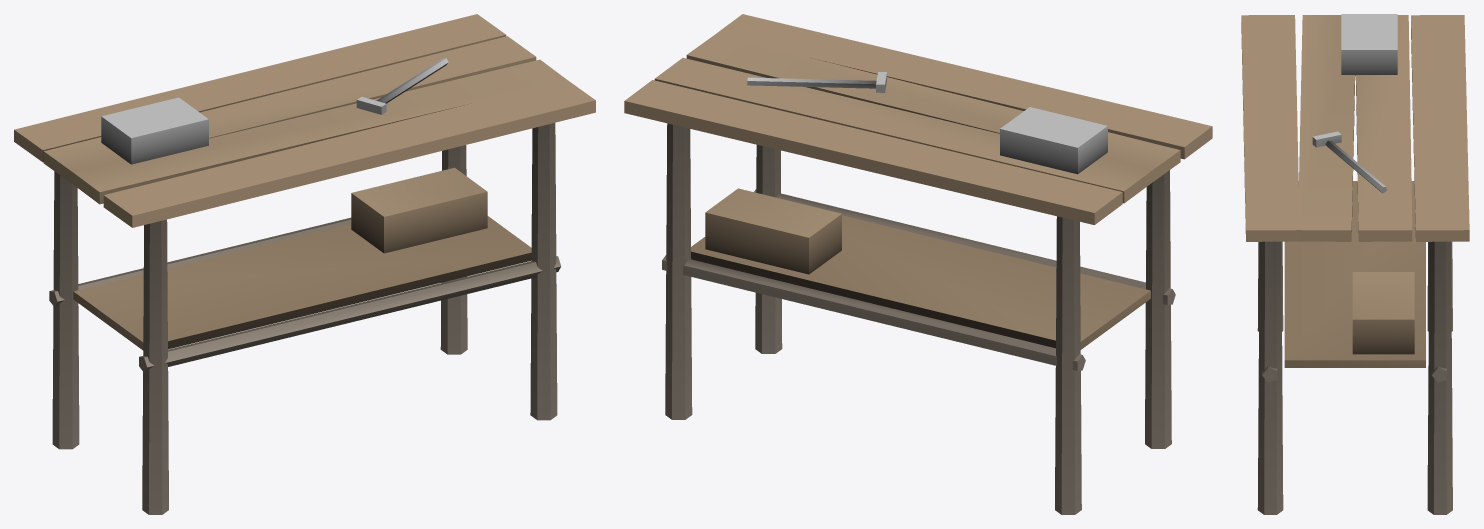
Rendered from banco.glb.
3 renders of one model, left to right at view 1: azimuth 30°, elevation 25°; view 2: azimuth 150°, elevation 25°; view 3: azimuth 270°, elevation 25°, orthographic. The views are drawn at different scales.
Visible parts, largest first — view 1: banco; view 2: banco; view 3: banco.
Boxes of the visible parts, x1=… form: banco: x1=14, y1=14, x2=595, y2=514; banco: x1=624, y1=14, x2=1212, y2=514; banco: x1=1241, y1=14, x2=1469, y2=514.
Size of the model in its own units: 1.8 by 1.26 by 0.8072.
